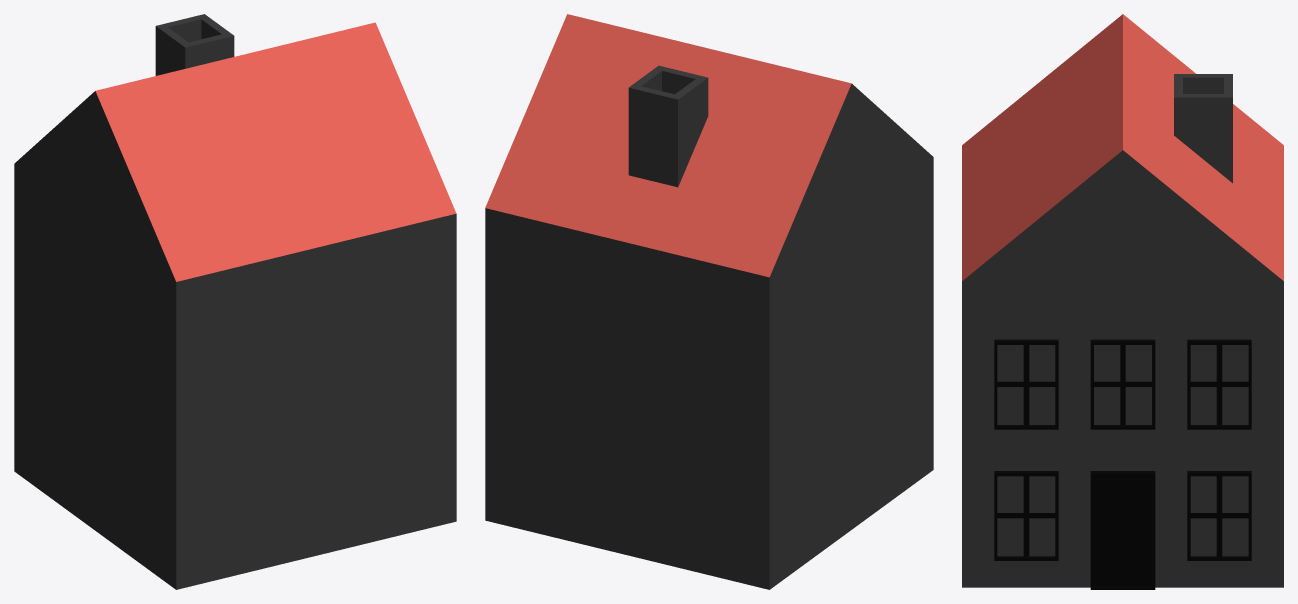
The model's file is House1.fbx.
The picture shows the model from 3 angles, left to right: view 1: azimuth 30°, elevation 25°; view 2: azimuth 150°, elevation 25°; view 3: azimuth 270°, elevation 25°; orthographic projection. The views are drawn at different scales.
Visible parts, largest first — view 1: House 1; view 2: House 1; view 3: House 1.
Boxes of the visible parts, box(x1,y1,x2,y2) form: House 1: box(14, 14, 456, 589); House 1: box(485, 14, 933, 589); House 1: box(962, 14, 1283, 589).
Bounding box in the file's own units: 203 × 300 × 200.
